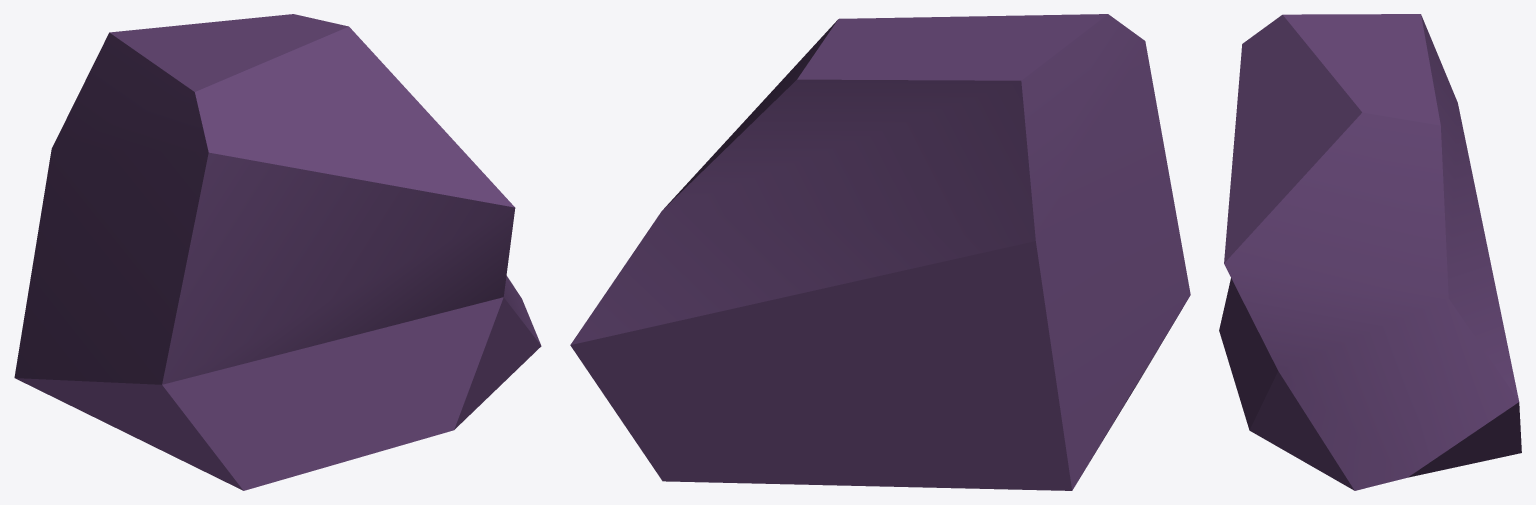
File: Rock_008.fbx
3 renders of one model, left to right at view 1: azimuth 30°, elevation 25°; view 2: azimuth 150°, elevation 25°; view 3: azimuth 270°, elevation 25°, orthographic. The views are drawn at different scales.
Parts seen in each view (by area): view 1: Rock_008; view 2: Rock_008; view 3: Rock_008.
Boxes of the visible parts, bbox=[...] form: Rock_008: bbox=[14, 14, 541, 490]; Rock_008: bbox=[570, 14, 1190, 490]; Rock_008: bbox=[1219, 14, 1521, 490].
Size of the model in its own units: 2.03 by 1.61 by 1.34.
